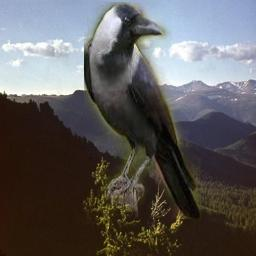Crow: (84, 2, 201, 219)
